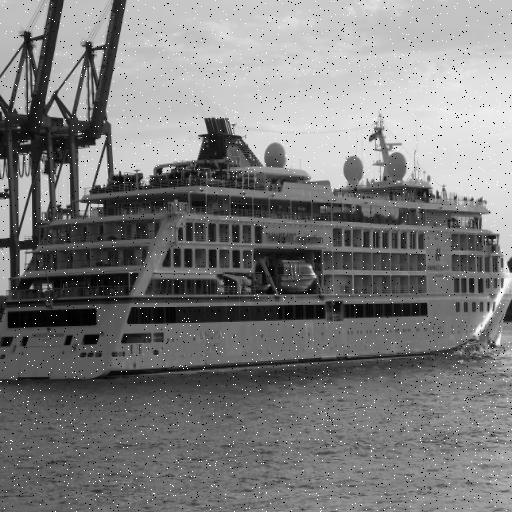cruises: (1, 110, 512, 389)
